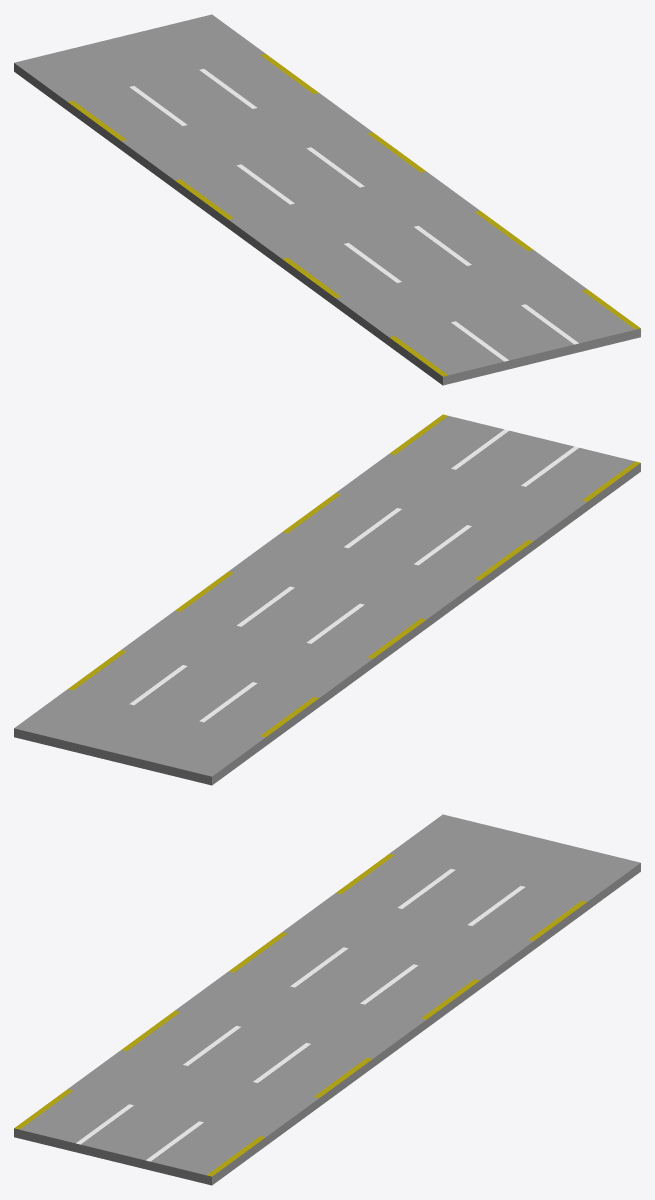
The model's file is Road.fbx.
3 views of the same model, one above another, from view 1: azimuth 30°, elevation 25°; view 2: azimuth 150°, elevation 25°; view 3: azimuth 330°, elevation 25° (orthographic).
Visible parts, largest first — view 1: Cube; view 2: Cube; view 3: Cube.
Part boxes in pixels (x1,y1,x2,y2): Cube: (14,14,640,385); Cube: (14,414,640,785); Cube: (14,814,640,1185).
Bounding box in the file's own units: 800 × 34.2 × 3000.
